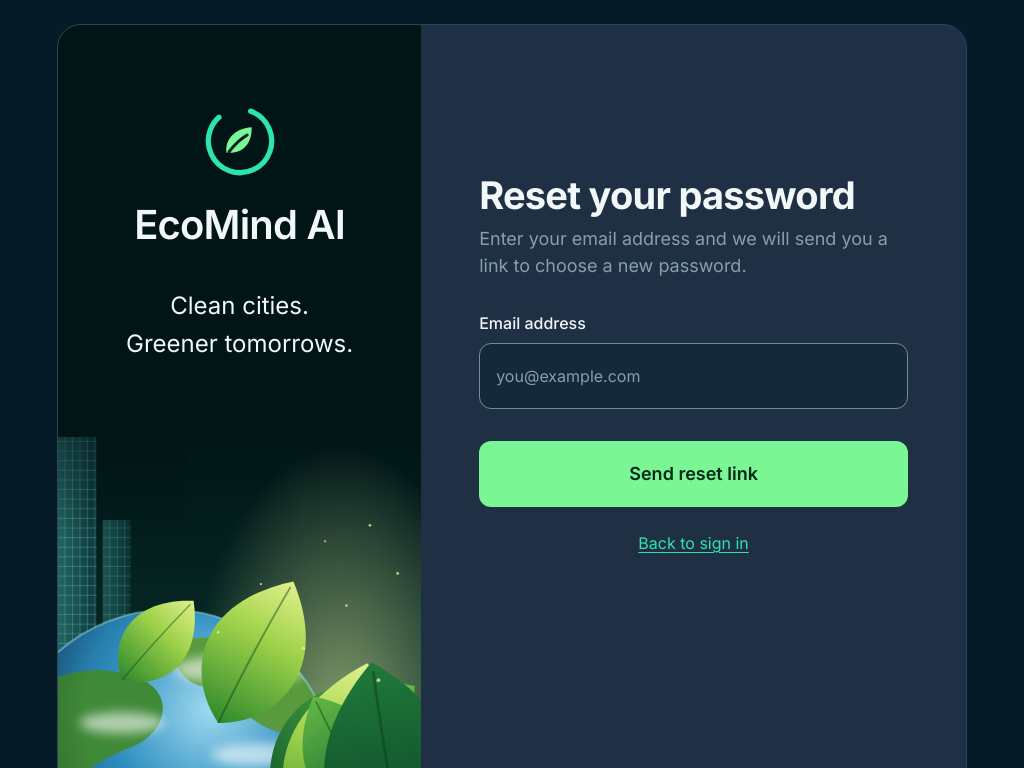
Test: forgot password › reports a server failure and a throttle without pretending the e-mail was sent
Type "asha@example.org" into the field labelled "Email address". click: (694, 376)
box: [479,343,908,409]
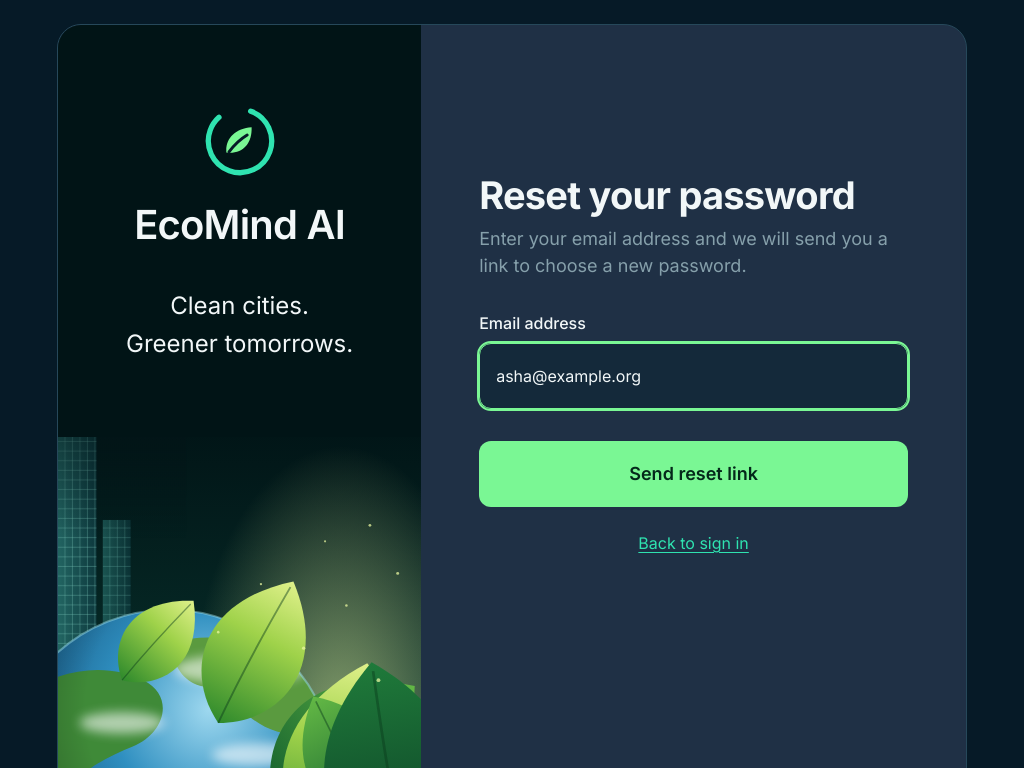
Click the button "Send reset link". click: (694, 474)
box: [479,441,908,507]
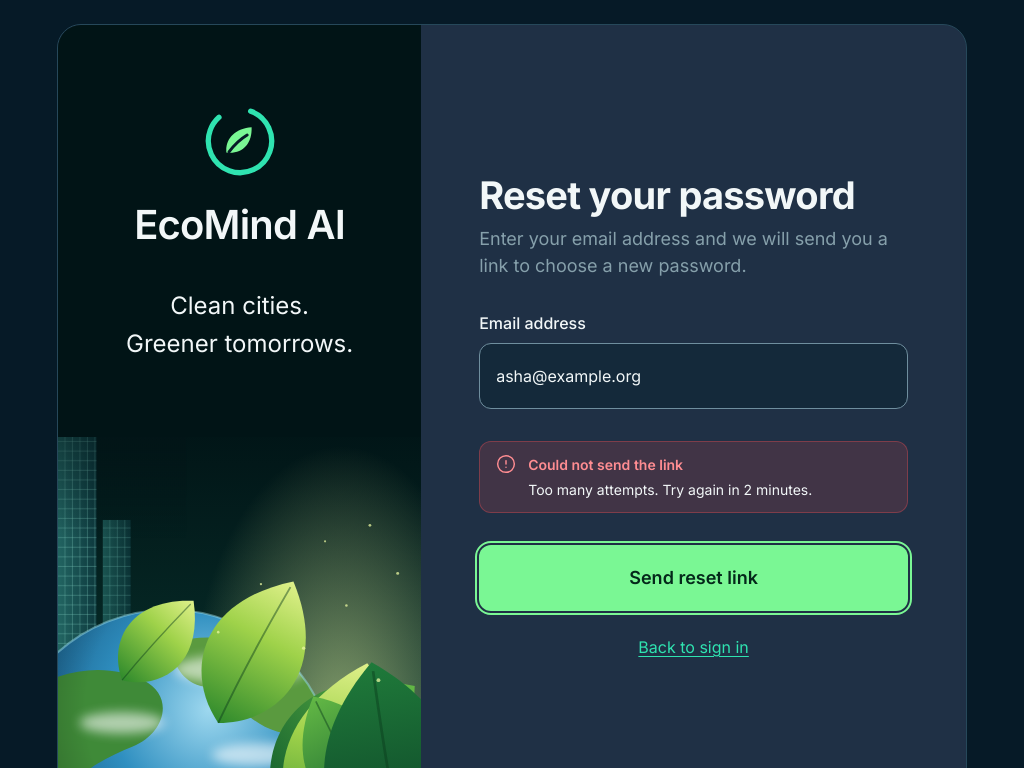
Now the message shows "Too many attempts. Try again in 2 minutes.", box [528,481,812,498]
